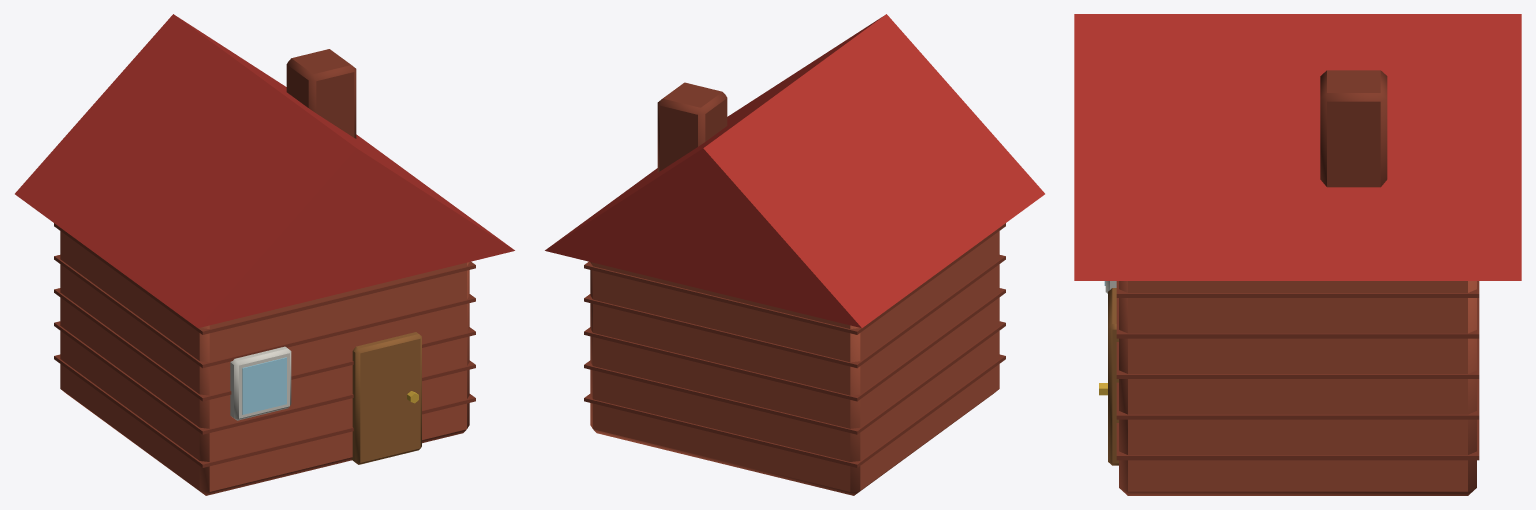
The model's file is 107_maison_briques.fbx.
3 renders of one model, left to right at view 1: azimuth 30°, elevation 25°; view 2: azimuth 150°, elevation 25°; view 3: azimuth 270°, elevation 25°, orthographic. The views are drawn at different scales.
Parts seen in each view (by area): view 1: Toit, Murs, Porte; view 2: Toit, Murs; view 3: Toit, Murs, Porte.
Boxes of the visible parts, x1,y1,x2,y2 form: Toit: (15, 14, 514, 327); Murs: (54, 49, 475, 495); Porte: (351, 332, 421, 464); Toit: (545, 14, 1044, 327); Murs: (584, 82, 1005, 495); Toit: (1074, 14, 1521, 280); Murs: (1104, 70, 1479, 495); Porte: (1099, 288, 1118, 465).
Bounding box in the file's own units: 0.56 × 0.56 × 0.56.
1 material, 1 textured.
